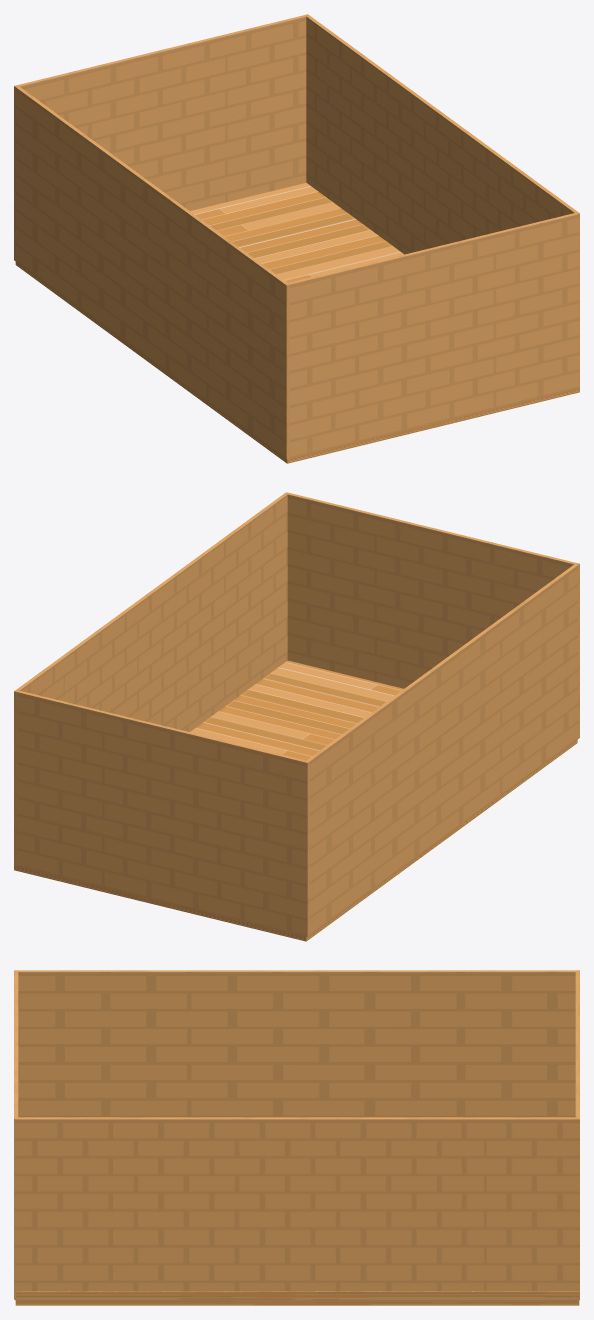
The model's file is gymnasefinalplanchermur 1.fbx.
3 views of the same model, one above another, from view 1: azimuth 30°, elevation 25°; view 2: azimuth 150°, elevation 25°; view 3: azimuth 270°, elevation 25° (orthographic). The views are drawn at different scales.
Visible parts, largest first — view 1: gymnasefinal:pCube7; view 2: gymnasefinal:pCube7; view 3: gymnasefinal:pCube7.
Boxes of the visible parts, x1=… form: gymnasefinal:pCube7: x1=14, y1=14, x2=579, y2=463; gymnasefinal:pCube7: x1=14, y1=492, x2=579, y2=941; gymnasefinal:pCube7: x1=14, y1=970, x2=579, y2=1305.
Size of the model in its own units: 74.06 by 43.14 by 119.
Materials: 2 (2 with a texture image).
